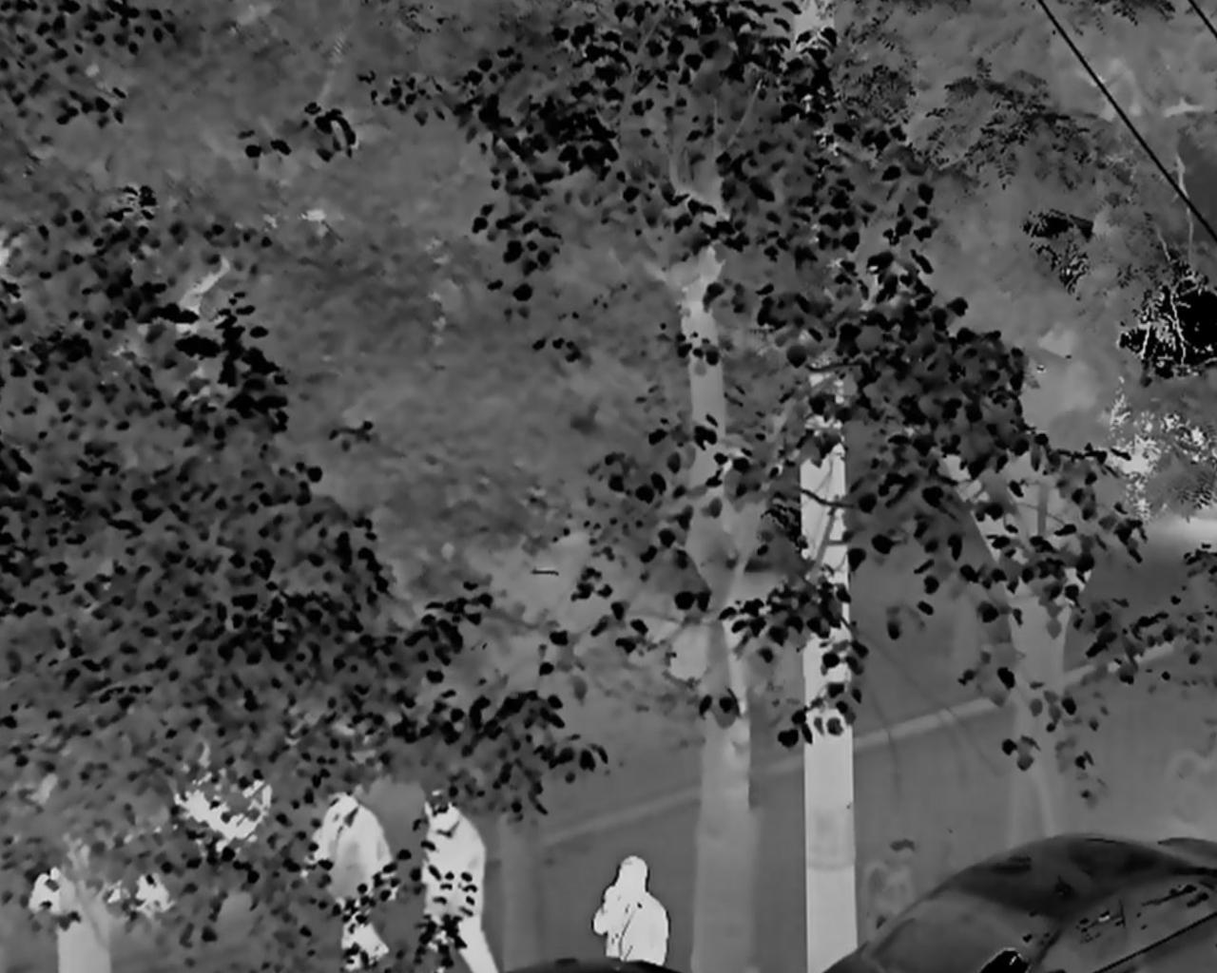person: (416, 784, 498, 973), (313, 790, 396, 963), (597, 856, 670, 963)
